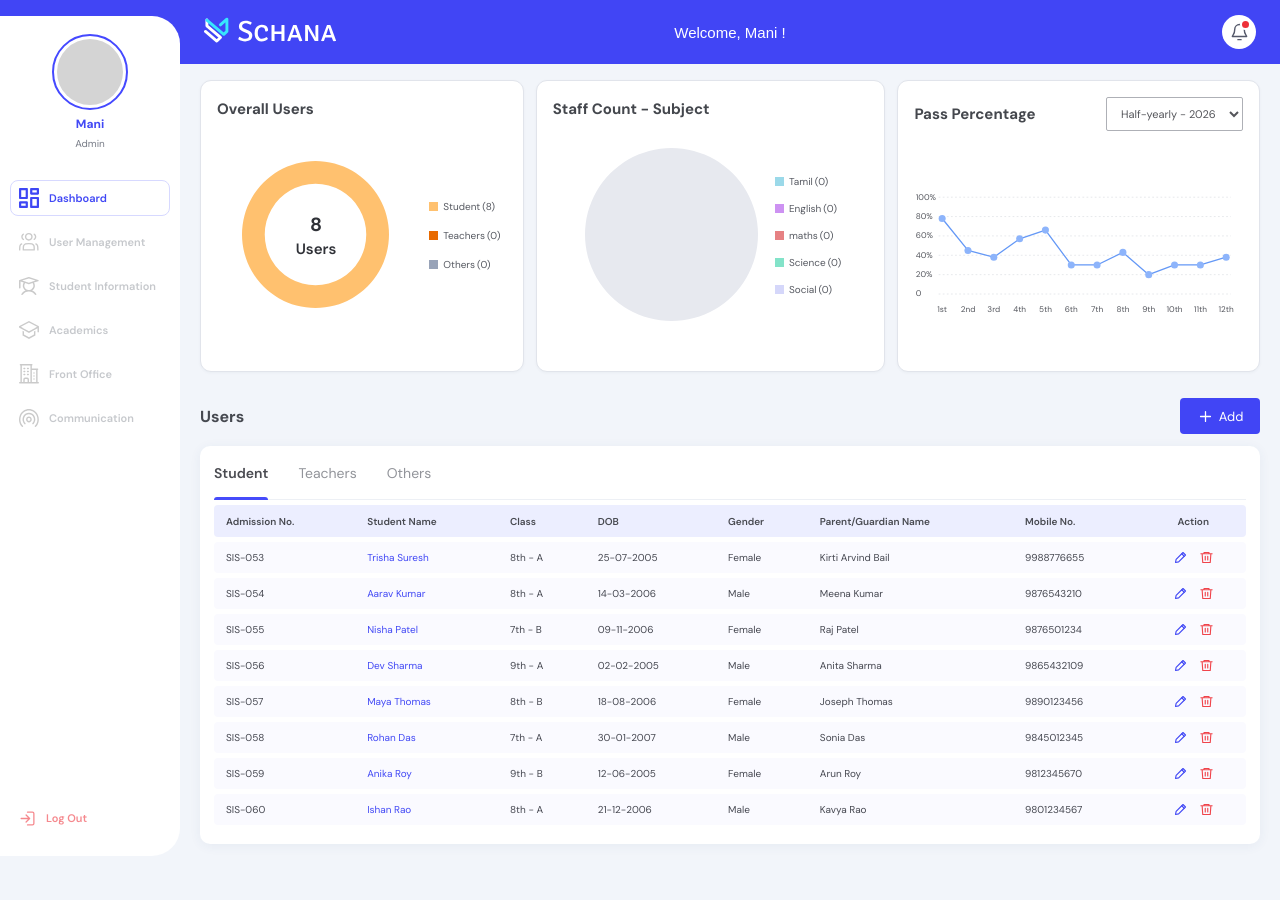
Test: requires confirmation before deleting a user
The width and height of the screenshot is (1280, 900).
Click the button named "Delete Trisha Suresh".
click(1206, 558)  # box [1197,548,1216,567]
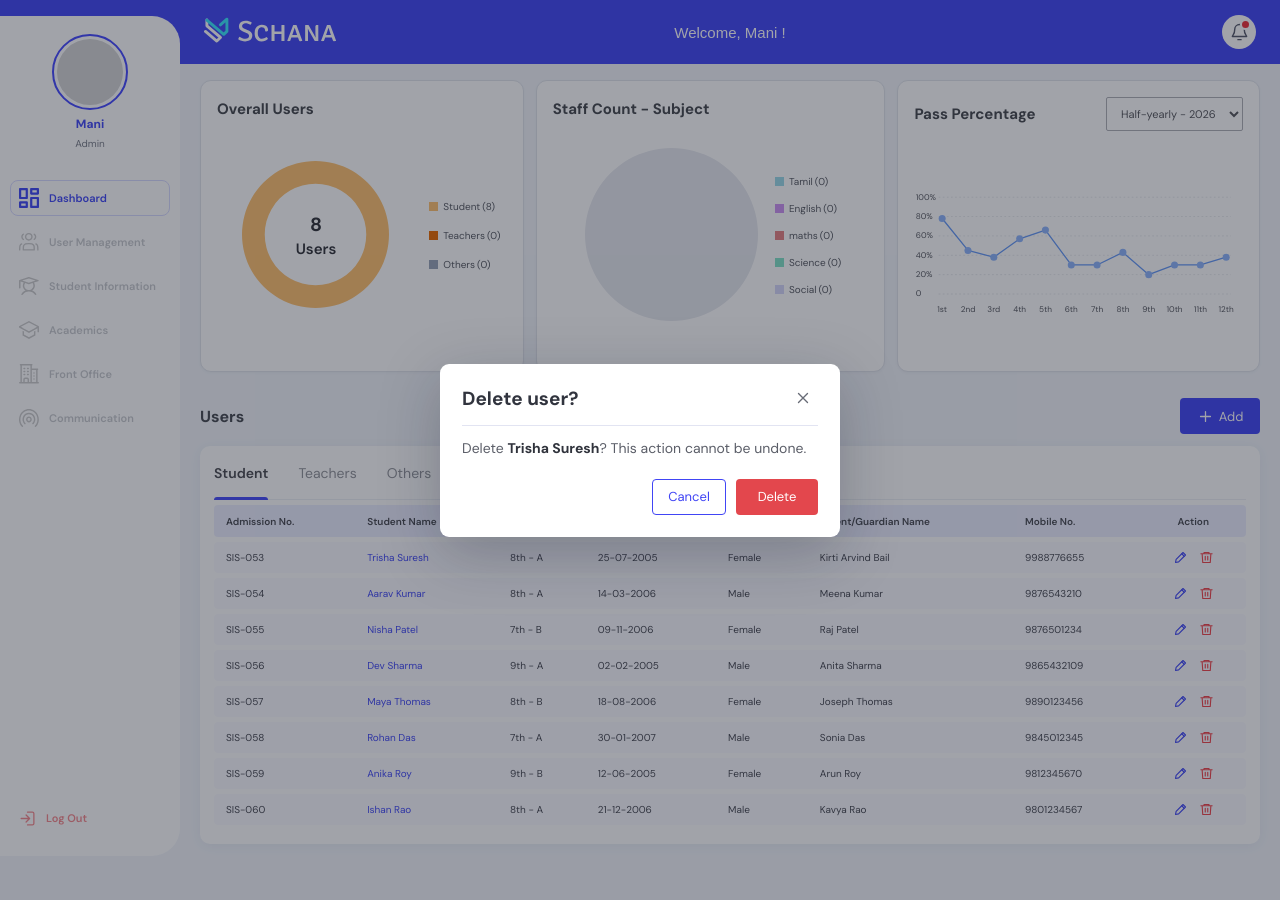
Check: the dialog shows "Delete Trisha Suresh?", box [440,364,840,536]
Click the button "Cancel".
click(689, 496)  # box [652,478,726,514]
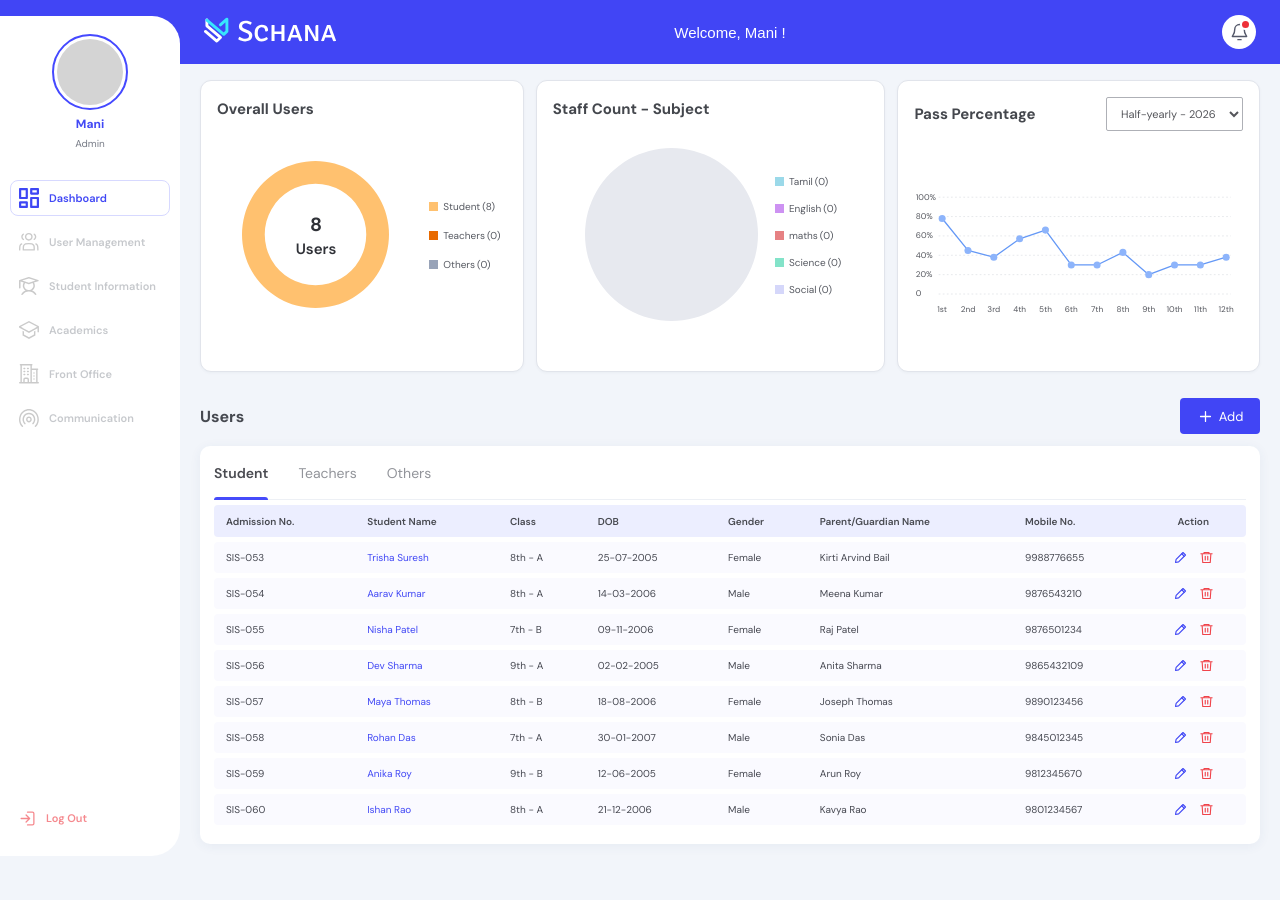
Check: the text "Trisha Suresh" is shown, box [367,551,429,564]
Click the button named "Delete Trisha Suresh".
click(1206, 558)  # box [1197,548,1216,567]
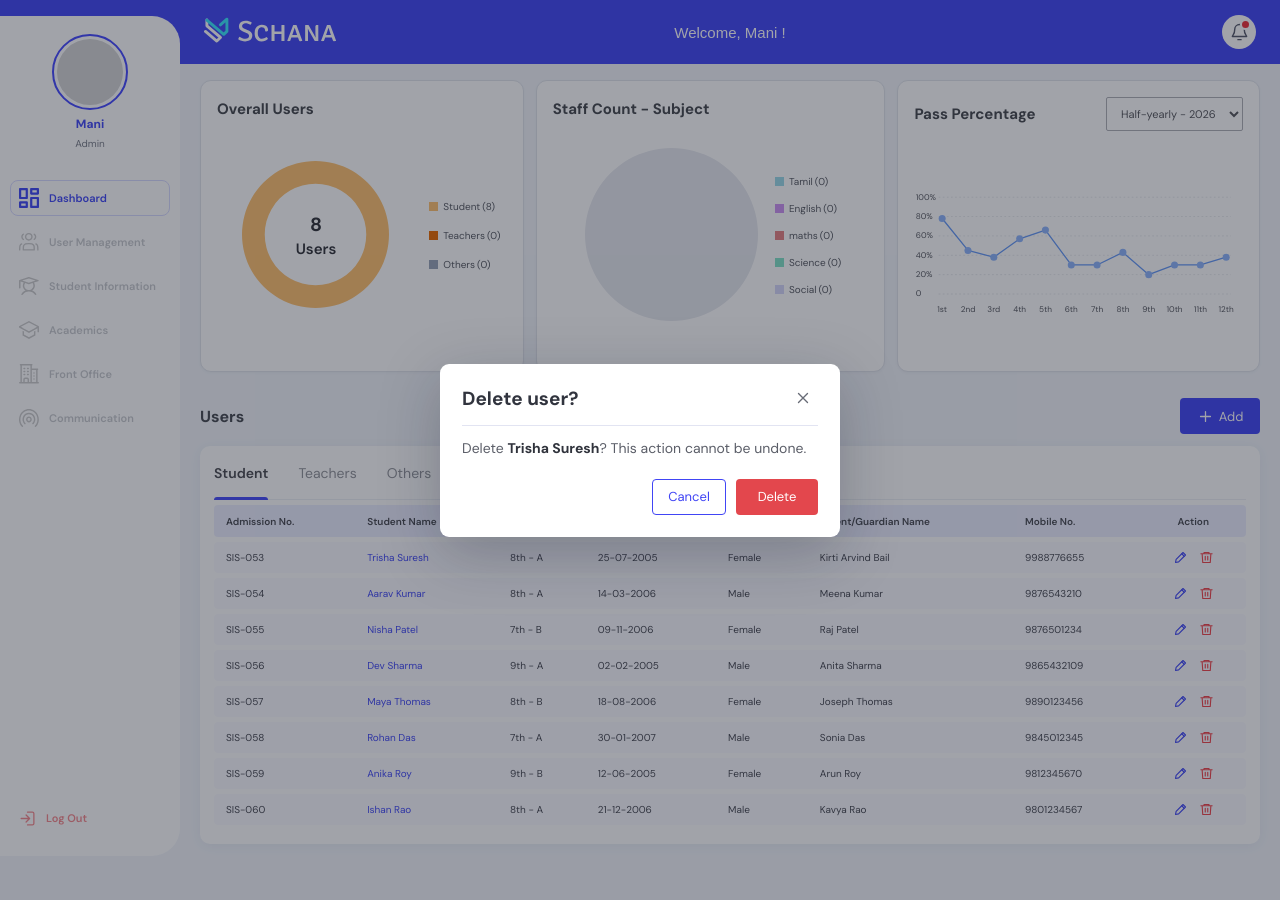
Click the button "Delete".
click(777, 496)  # box [736,478,818,514]
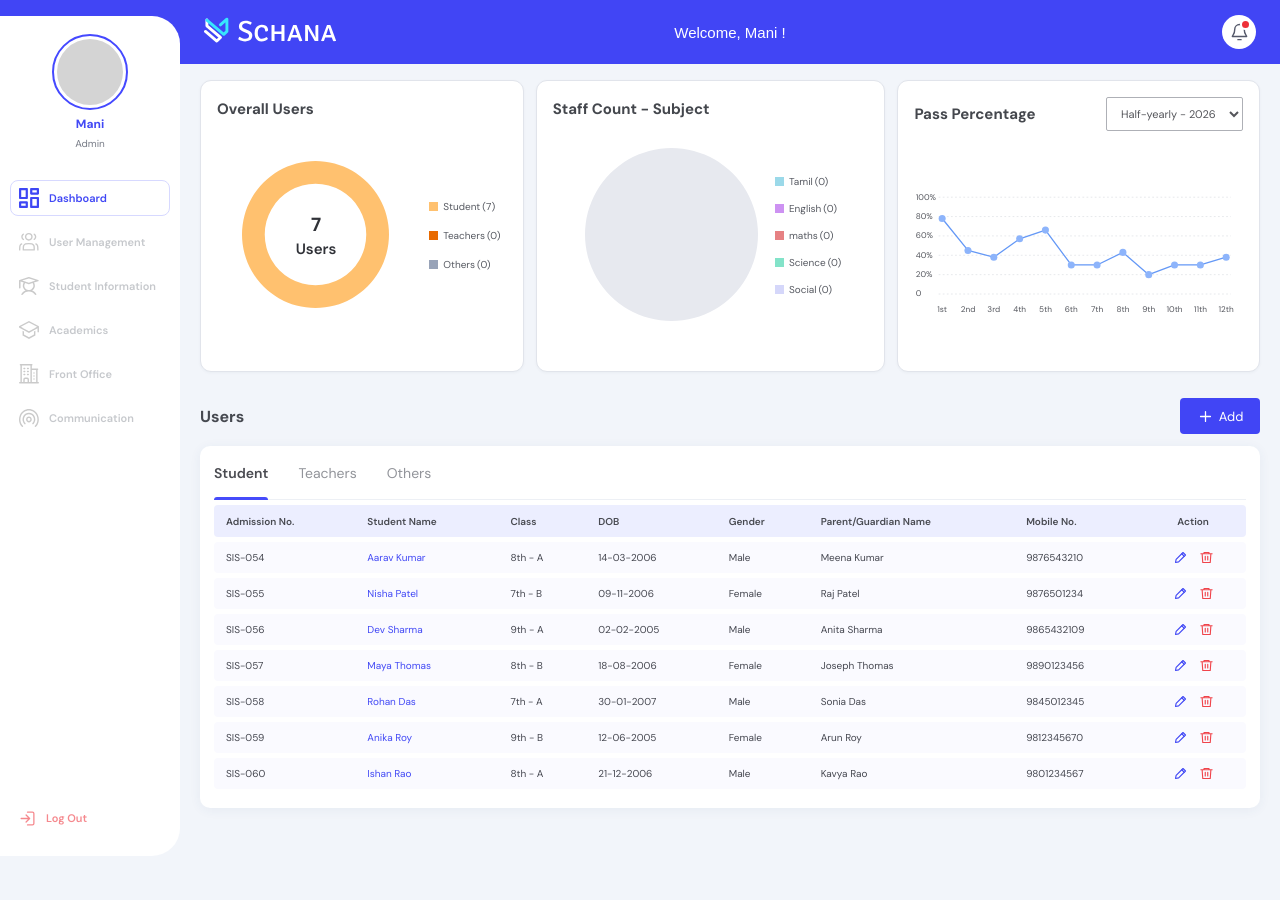
Check: the text "Trisha Suresh" is gone
Check: the dialog is gone
